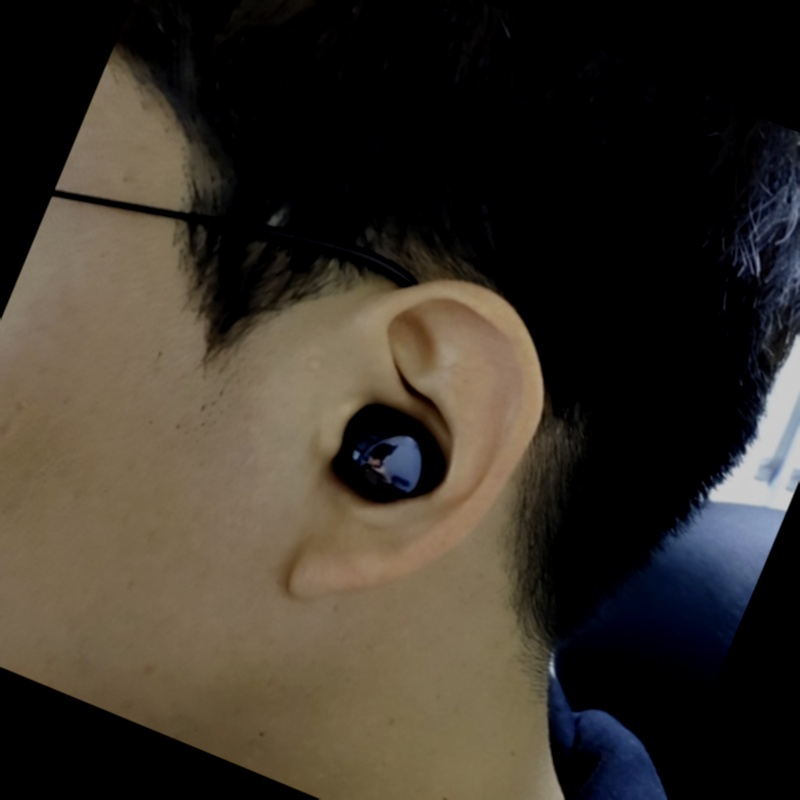earphone: (253, 247, 580, 660)
